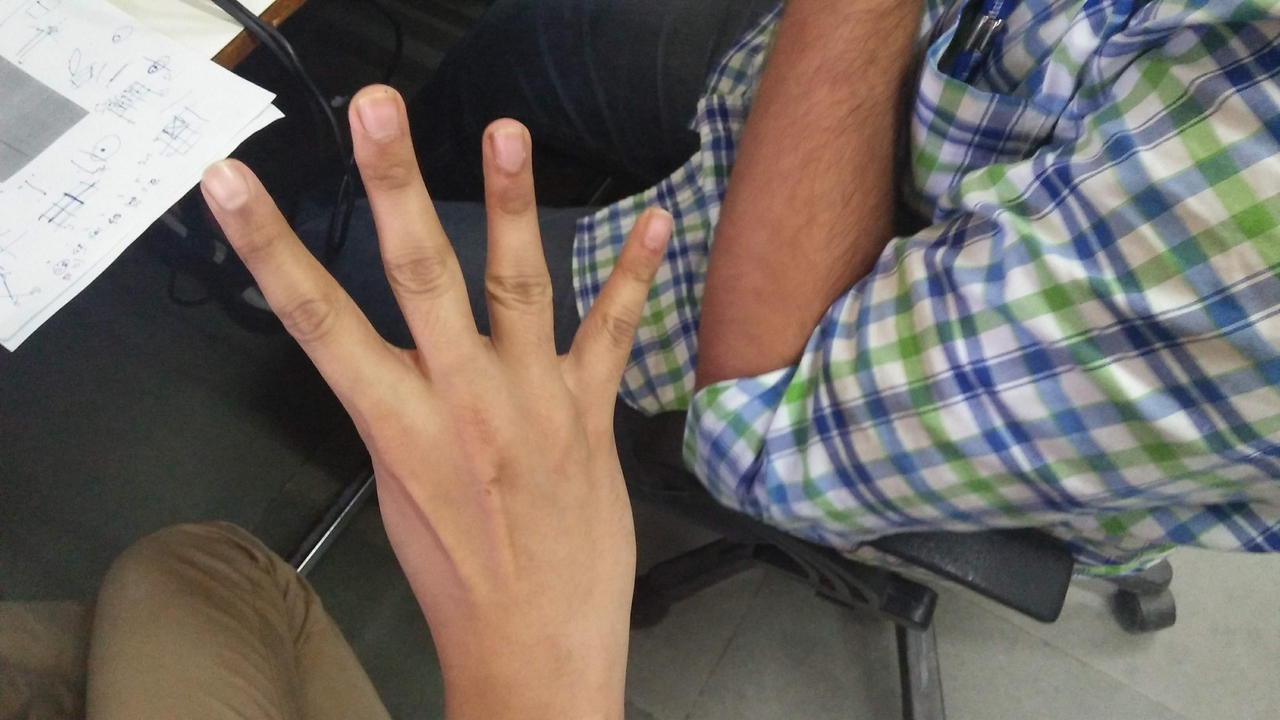fingertip: (186, 146, 262, 216), (336, 80, 412, 150), (616, 192, 680, 258), (472, 114, 536, 172)
